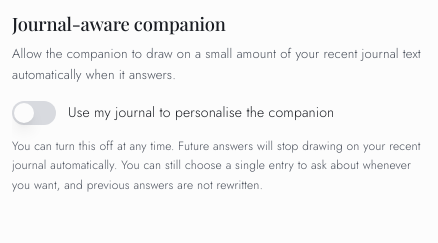
journal permission setting › reverts and says so when the save fails
Click the switch: click(34, 113) [12,101,56,125]
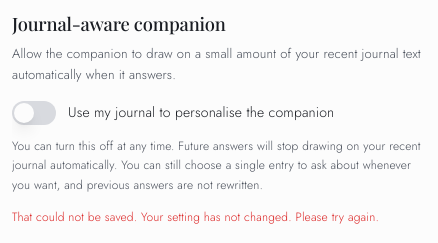
Expected: the message shows "could not be saved", [12,208,379,226]
